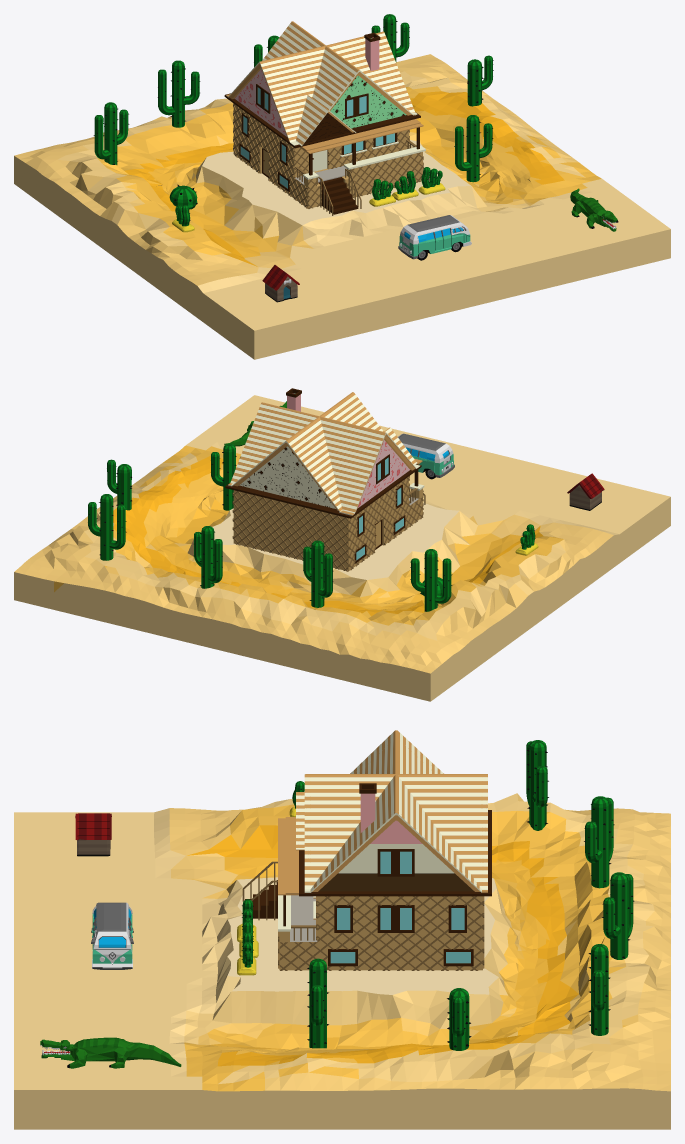
3 renders of one model, top to bottom at view 1: azimuth 30°, elevation 25°; view 2: azimuth 150°, elevation 25°; view 3: azimuth 270°, elevation 25°, orthographic. The views are drawn at different scales.
Visible parts, largest first — view 1: Cube.001, Cube.1102, VEHICLES_VAN, Cylinder.037, Cylinder.044, Cylinder.045, ANIMAL_COCODRILO, Cylinder.038, OBJRANDOM_DOGHOUSE, Cylinder.042, Cylinder.039, Cylinder.041 (+2 smaller); view 2: Cube.001, Cube.1102, Cylinder.042, Cylinder.045, VEHICLES_VAN, Cylinder.044, Cylinder.043, Cylinder.037, Cylinder.038, OBJRANDOM_DOGHOUSE; view 3: Cube.001, Cube.1102, VEHICLES_VAN, ANIMAL_COCODRILO, Cylinder.043, Cylinder.044, Cylinder.045, Cylinder.042, Cylinder.037, OBJRANDOM_DOGHOUSE, Cylinder.038, Cylinder.041.
Boxes of the visible parts, x1=… form: Cube.001: x1=14, y1=54, x2=670, y2=359; Cube.1102: x1=224, y1=21, x2=425, y2=215; VEHICLES_VAN: x1=398, y1=215, x2=471, y2=260; Cylinder.037: x1=454, y1=115, x2=493, y2=182; Cylinder.044: x1=157, y1=60, x2=200, y2=127; Cylinder.045: x1=93, y1=102, x2=129, y2=164; ANIMAL_COCODRILO: x1=570, y1=188, x2=618, y2=231; Cylinder.038: x1=467, y1=55, x2=493, y2=106; OBJRANDOM_DOGHOUSE: x1=262, y1=265, x2=299, y2=302; Cylinder.042: x1=371, y1=14, x2=409, y2=62; Cylinder.039: x1=369, y1=179, x2=395, y2=206; Cylinder.041: x1=418, y1=167, x2=445, y2=194; Cube.001: x1=14, y1=395, x2=670, y2=701; Cube.1102: x1=225, y1=388, x2=425, y2=571; Cylinder.042: x1=88, y1=494, x2=126, y2=560; Cylinder.045: x1=410, y1=549, x2=452, y2=611; VEHICLES_VAN: x1=398, y1=433, x2=454, y2=479; Cylinder.044: x1=303, y1=540, x2=333, y2=607; Cylinder.043: x1=193, y1=526, x2=222, y2=588; Cylinder.037: x1=211, y1=444, x2=240, y2=510; Cylinder.038: x1=107, y1=459, x2=131, y2=510; OBJRANDOM_DOGHOUSE: x1=567, y1=473, x2=604, y2=510; Cube.001: x1=14, y1=793, x2=670, y2=1129; Cube.1102: x1=242, y1=730, x2=491, y2=970; VEHICLES_VAN: x1=91, y1=902, x2=133, y2=969; ANIMAL_COCODRILO: x1=40, y1=1037, x2=181, y2=1068; Cylinder.043: x1=602, y1=872, x2=634, y2=959; Cylinder.044: x1=584, y1=796, x2=614, y2=888; Cylinder.045: x1=526, y1=740, x2=548, y2=830; Cylinder.042: x1=588, y1=944, x2=610, y2=1035; Cylinder.037: x1=307, y1=958, x2=328, y2=1048; OBJRANDOM_DOGHOUSE: x1=75, y1=813, x2=111, y2=856; Cylinder.038: x1=447, y1=988, x2=471, y2=1050; Cylinder.041: x1=237, y1=932, x2=256, y2=975.
Bounding box in the file's own units: 4002 × 1605 × 4001.
38 materials, 3 textured.
